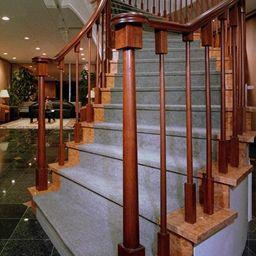Escaleras: (28, 4, 247, 251)
